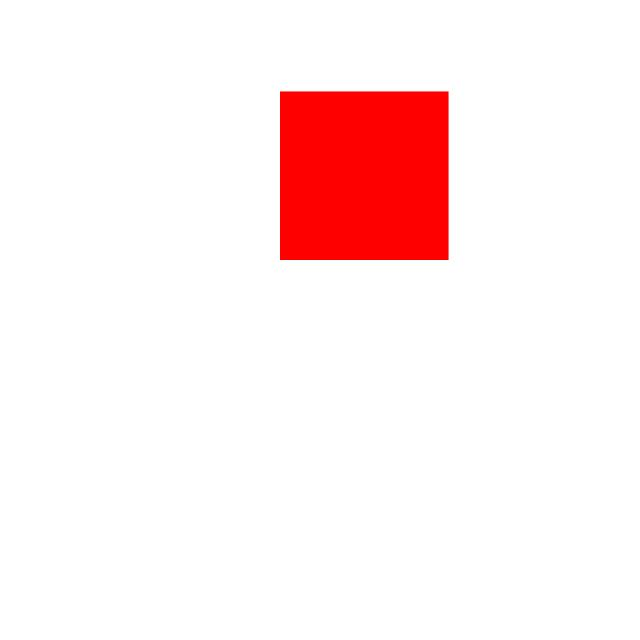square: (252, 56, 494, 296)
